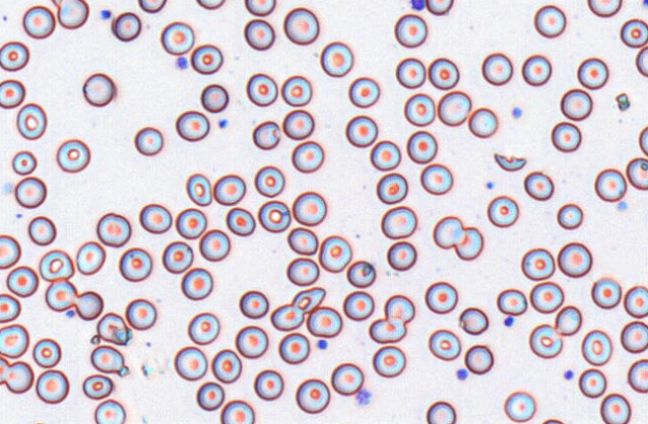PLT: (355, 389, 375, 408), (175, 54, 189, 72), (409, 0, 428, 12), (456, 368, 469, 383), (99, 10, 115, 22), (316, 340, 331, 352), (218, 118, 231, 130), (615, 202, 628, 213), (504, 315, 514, 328), (564, 369, 575, 380), (512, 108, 522, 120), (64, 309, 75, 318)
RBC: (283, 6, 319, 45), (291, 190, 327, 226), (318, 234, 352, 272), (295, 378, 330, 414), (557, 241, 592, 277), (380, 205, 417, 239), (96, 212, 131, 247), (173, 345, 207, 381), (437, 90, 471, 126), (319, 41, 353, 77), (35, 369, 69, 404), (528, 323, 562, 358), (56, 138, 90, 173), (38, 248, 74, 281), (16, 102, 47, 140), (424, 280, 458, 314), (118, 247, 152, 281), (160, 21, 194, 55), (96, 312, 131, 345), (520, 247, 555, 280), (394, 13, 427, 48), (82, 72, 115, 107), (306, 305, 342, 337), (330, 362, 364, 395), (22, 5, 55, 39), (419, 162, 453, 195), (594, 168, 627, 202), (533, 4, 566, 38), (257, 199, 291, 232), (245, 72, 278, 106), (529, 281, 564, 313), (210, 348, 242, 383), (581, 329, 612, 365), (235, 325, 268, 358), (180, 267, 213, 300), (187, 312, 220, 345), (345, 114, 378, 147), (291, 140, 324, 173), (432, 215, 464, 249), (372, 345, 406, 377), (403, 92, 435, 126), (212, 173, 246, 205), (75, 240, 106, 275), (44, 279, 77, 311), (428, 328, 461, 360), (503, 390, 536, 422), (198, 228, 230, 261), (6, 265, 39, 297), (161, 240, 193, 273), (486, 195, 519, 227), (560, 88, 592, 121), (481, 52, 513, 85), (427, 57, 459, 90), (14, 176, 47, 208), (138, 203, 172, 234), (175, 110, 209, 141), (368, 316, 406, 343), (278, 332, 310, 364), (124, 298, 156, 330), (175, 207, 207, 239), (369, 139, 401, 171), (376, 172, 408, 204), (348, 76, 380, 108), (282, 108, 314, 140), (243, 18, 275, 50), (577, 57, 609, 89), (406, 130, 437, 163), (190, 43, 223, 74), (453, 226, 483, 260), (4, 360, 34, 394), (0, 323, 29, 358), (599, 392, 631, 423), (467, 106, 498, 138), (590, 277, 621, 309), (254, 165, 285, 197), (281, 74, 312, 106), (90, 344, 124, 373), (523, 170, 554, 201), (550, 121, 581, 152), (395, 57, 426, 88), (342, 290, 374, 320), (521, 54, 551, 86), (56, 0, 89, 29), (286, 257, 319, 286), (270, 303, 304, 331), (253, 369, 283, 400), (386, 240, 416, 271), (238, 289, 269, 319), (286, 226, 318, 255), (185, 172, 212, 206), (225, 206, 255, 236), (111, 11, 141, 41), (32, 337, 61, 368), (0, 40, 29, 71), (620, 320, 647, 353), (74, 290, 103, 320), (384, 294, 414, 323), (195, 381, 224, 411), (346, 259, 376, 288), (464, 344, 493, 374), (27, 215, 56, 245), (133, 126, 163, 155), (554, 304, 582, 335), (496, 288, 527, 316), (219, 399, 254, 423), (578, 368, 606, 398), (200, 83, 228, 113), (82, 373, 113, 400), (620, 18, 647, 48), (93, 398, 125, 423), (623, 285, 647, 318), (0, 78, 25, 108), (0, 234, 21, 269), (556, 202, 583, 229), (626, 156, 647, 190), (425, 400, 456, 423), (627, 358, 647, 393), (11, 149, 37, 175), (0, 293, 21, 322), (587, 0, 622, 17), (244, 0, 276, 16), (425, 0, 453, 15), (635, 45, 647, 77), (137, 0, 166, 13), (638, 124, 647, 156), (0, 356, 10, 384), (195, 0, 225, 9), (540, 418, 564, 423), (641, 0, 648, 9)
Schistocyte: (251, 120, 283, 151), (294, 287, 327, 314), (460, 307, 489, 336), (493, 151, 527, 173)
